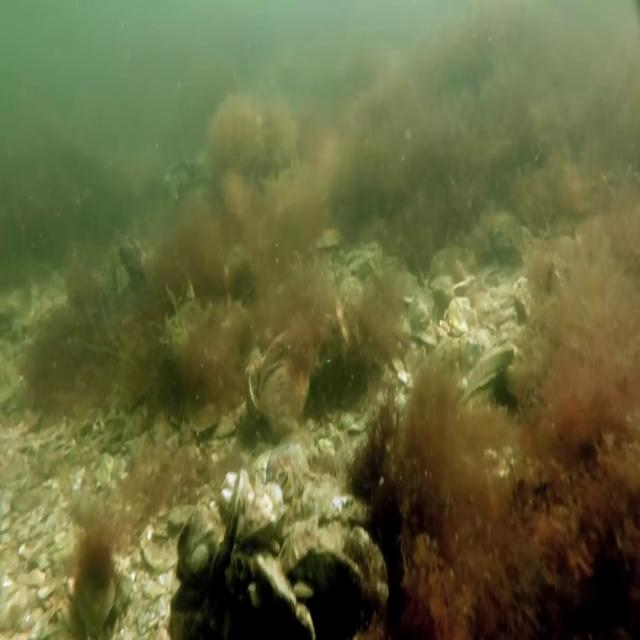Oyster-Closed: (257, 351, 311, 436), (211, 464, 250, 581), (250, 548, 302, 631), (283, 517, 342, 590), (235, 495, 296, 553), (454, 367, 502, 412)
Oyster-Indeterminate: (311, 220, 348, 262)
